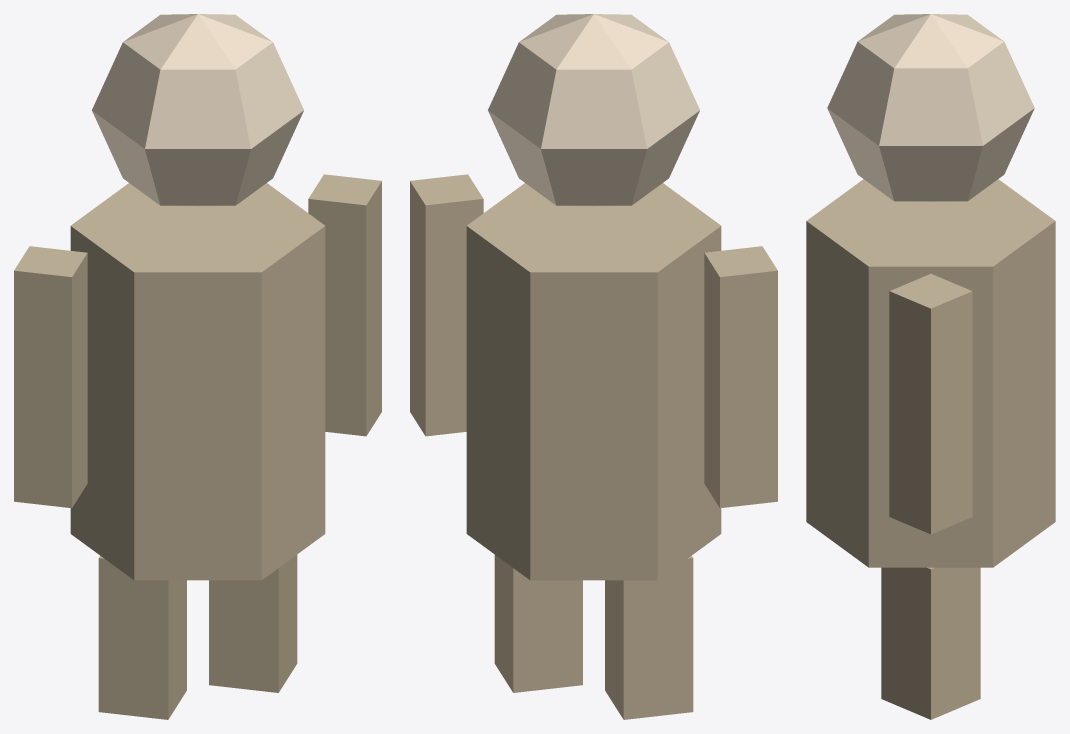
The model's file is rancher.glb.
3 views of the same model, side by side, from view 1: azimuth 30°, elevation 25°; view 2: azimuth 150°, elevation 25°; view 3: azimuth 270°, elevation 25° (orthographic). The views are drawn at different scales.
Parts seen in each view (by area): view 1: rancher_torso, rancher_head, rancher_arm_l, rancher_arm_r, rancher_leg_l, rancher_leg_r; view 2: rancher_torso, rancher_head, rancher_arm_l, rancher_arm_r, rancher_leg_l, rancher_leg_r; view 3: rancher_torso, rancher_head, rancher_arm_r, rancher_leg_r.
Boxes of the visible parts, left/top/right/bottom form: rancher_torso: left=70, top=183, right=325, bottom=580; rancher_head: left=92, top=14, right=303, bottom=206; rancher_arm_l: left=14, top=246, right=87, bottom=508; rancher_arm_r: left=308, top=174, right=381, bottom=436; rancher_leg_l: left=98, top=555, right=186, bottom=719; rancher_leg_r: left=209, top=555, right=297, bottom=692; rancher_torso: left=466, top=183, right=721, bottom=580; rancher_head: left=488, top=14, right=699, bottom=206; rancher_arm_l: left=704, top=246, right=777, bottom=508; rancher_arm_r: left=410, top=174, right=483, bottom=436; rancher_leg_l: left=605, top=555, right=693, bottom=719; rancher_leg_r: left=494, top=555, right=582, bottom=692; rancher_torso: left=806, top=179, right=1055, bottom=567; rancher_head: left=827, top=14, right=1034, bottom=201; rancher_arm_r: left=889, top=274, right=972, bottom=534; rancher_leg_r: left=881, top=567, right=980, bottom=719.
Size of the model in its own units: 0.375 by 0.6562 by 0.225.
